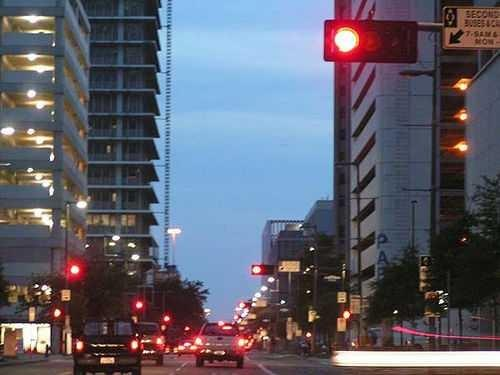red: (321, 18, 419, 64), (326, 20, 365, 61), (69, 264, 81, 292), (252, 263, 276, 276), (251, 263, 261, 276), (70, 263, 80, 275)
